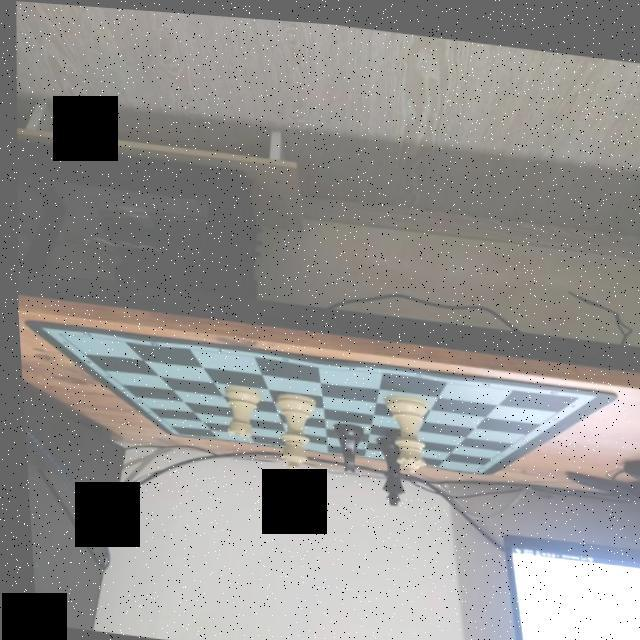chess-table-corners: (40, 325, 70, 341), (562, 381, 586, 396), (459, 458, 482, 472), (162, 426, 186, 438)
